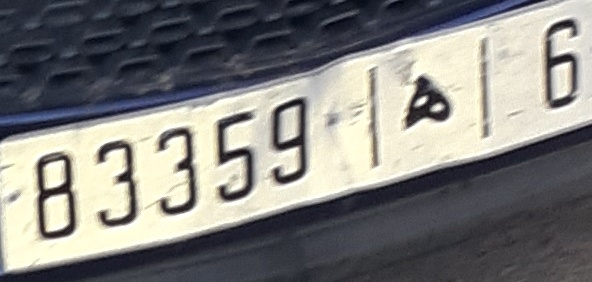3: (92, 138, 144, 230), (154, 125, 201, 217)
5: (215, 110, 258, 203)
6: (540, 14, 582, 112)
8: (31, 150, 83, 241)
9: (269, 95, 313, 187)
h: (399, 70, 455, 134)
